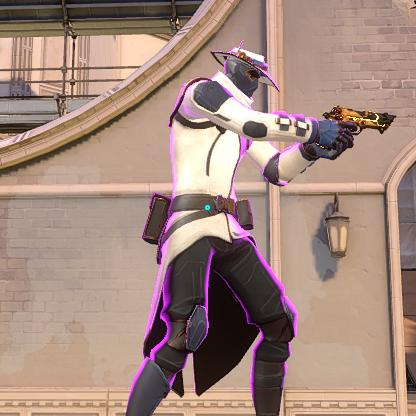enemyBody: (187, 84, 242, 212)
enemyHead: (233, 52, 262, 89)
